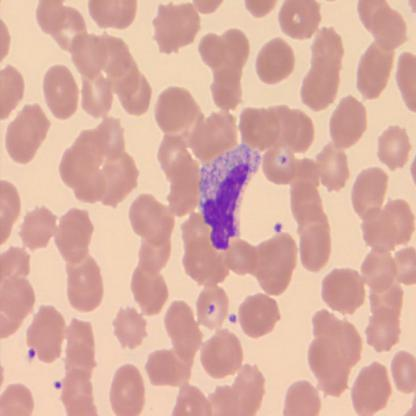Metamyelocyte: (197, 141, 262, 253)
